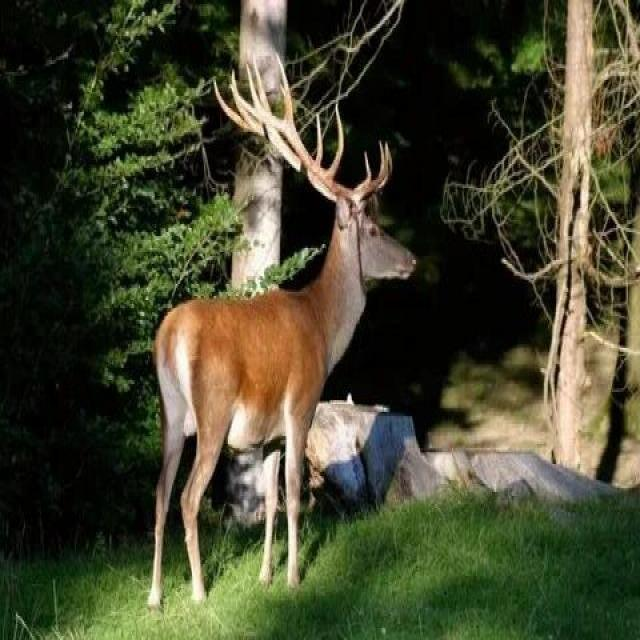deer: (118, 60, 446, 595)
